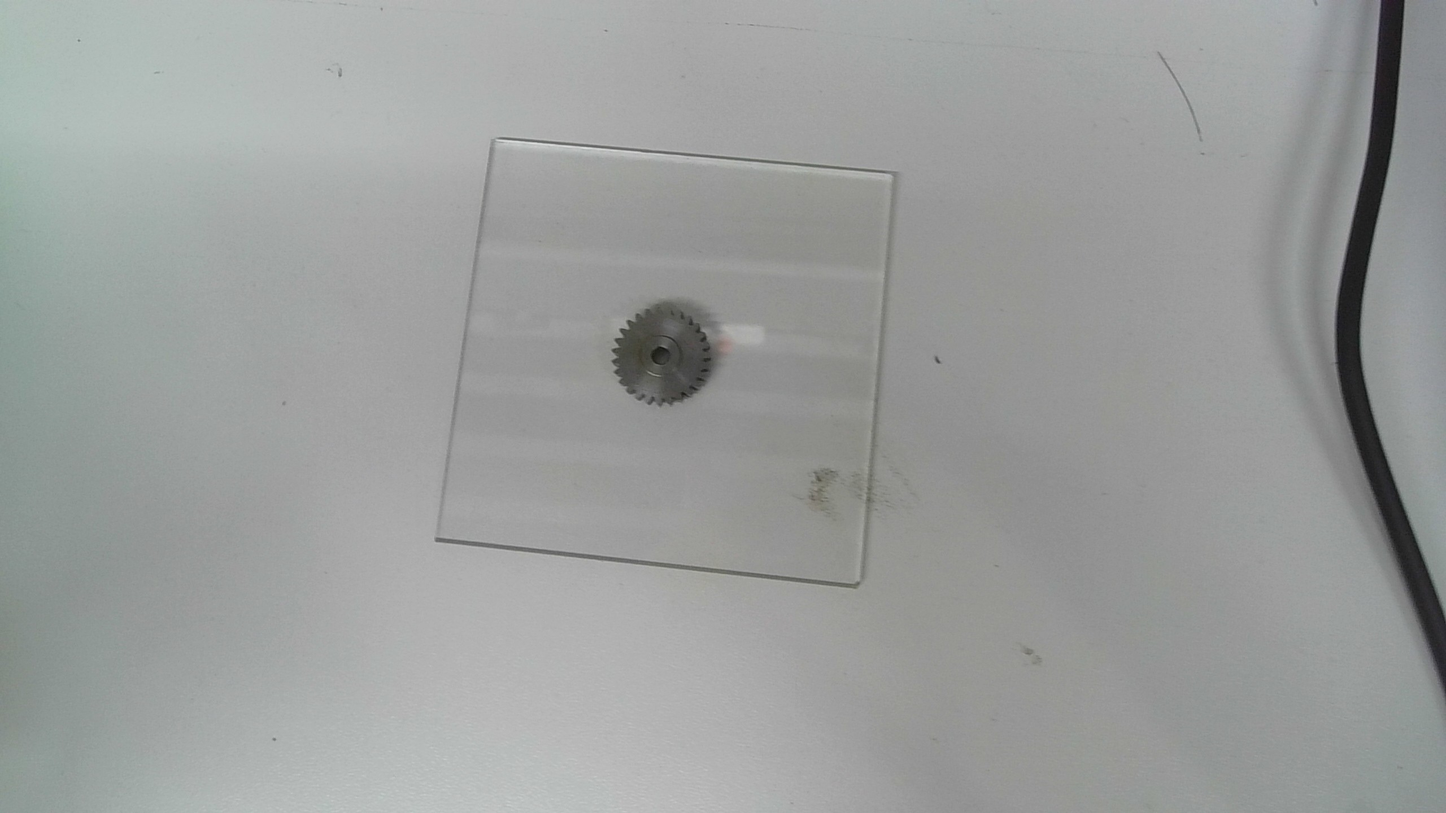gear: (607, 300, 715, 409)
